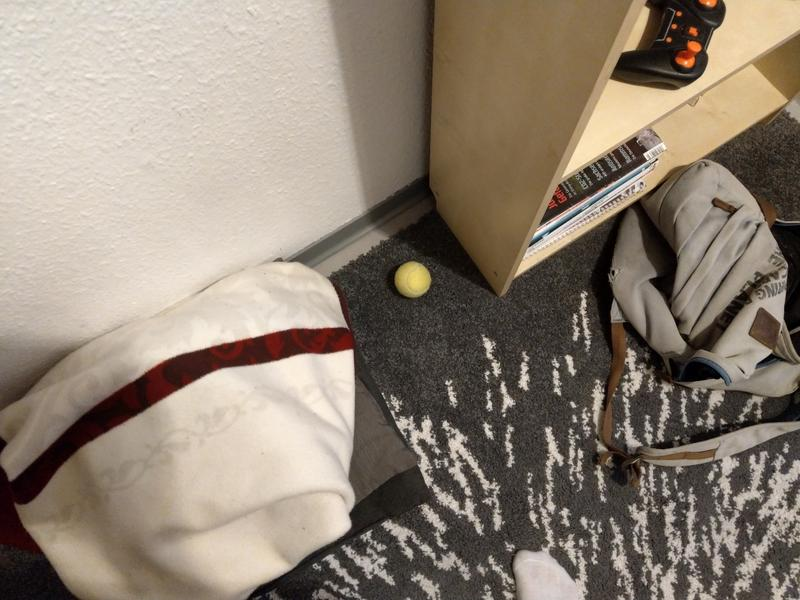Tennisball: (393, 259, 433, 300)
